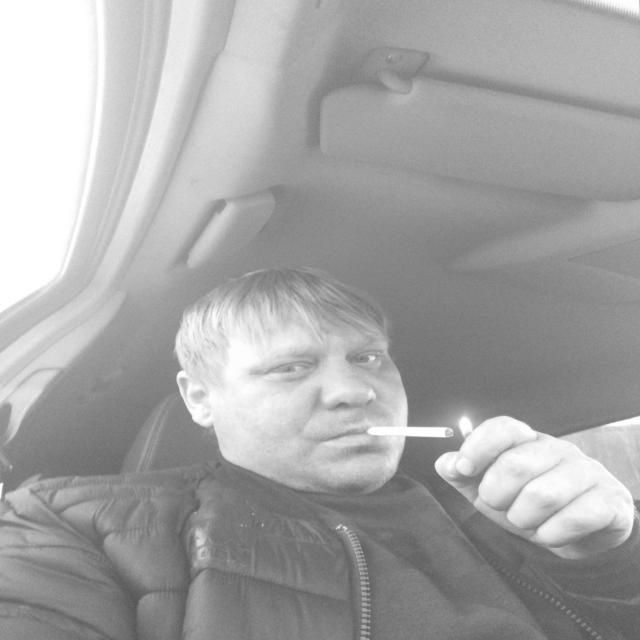Cigarette: (356, 420, 466, 448)
